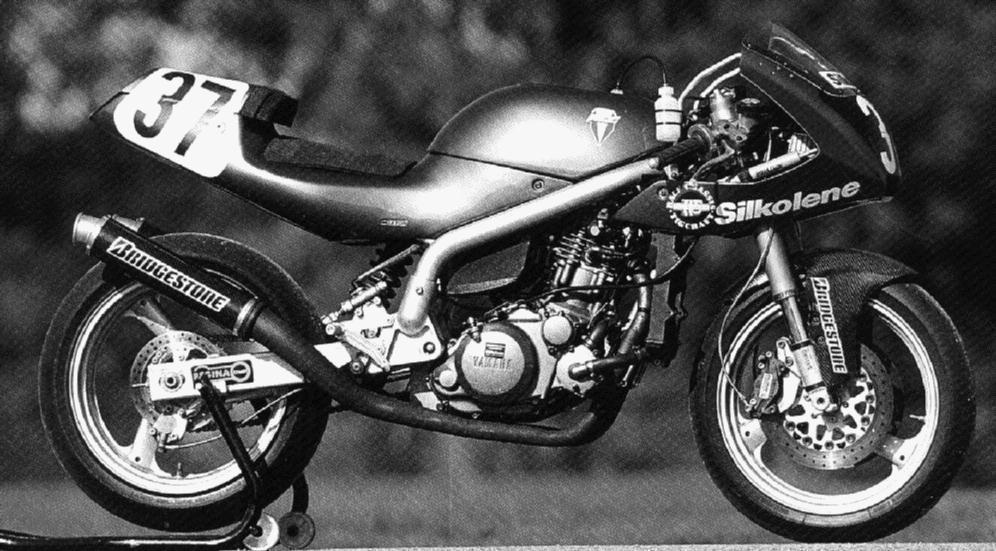motorcycle: (20, 6, 987, 551)
